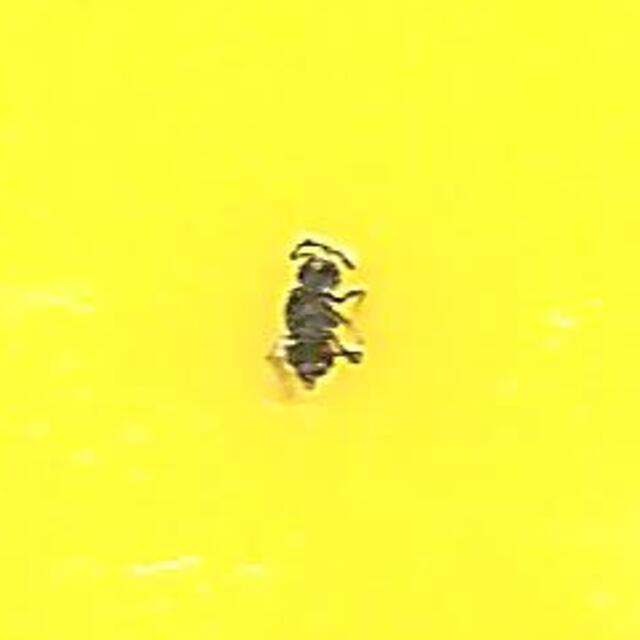Hymenoptera: (266, 234, 374, 406)
